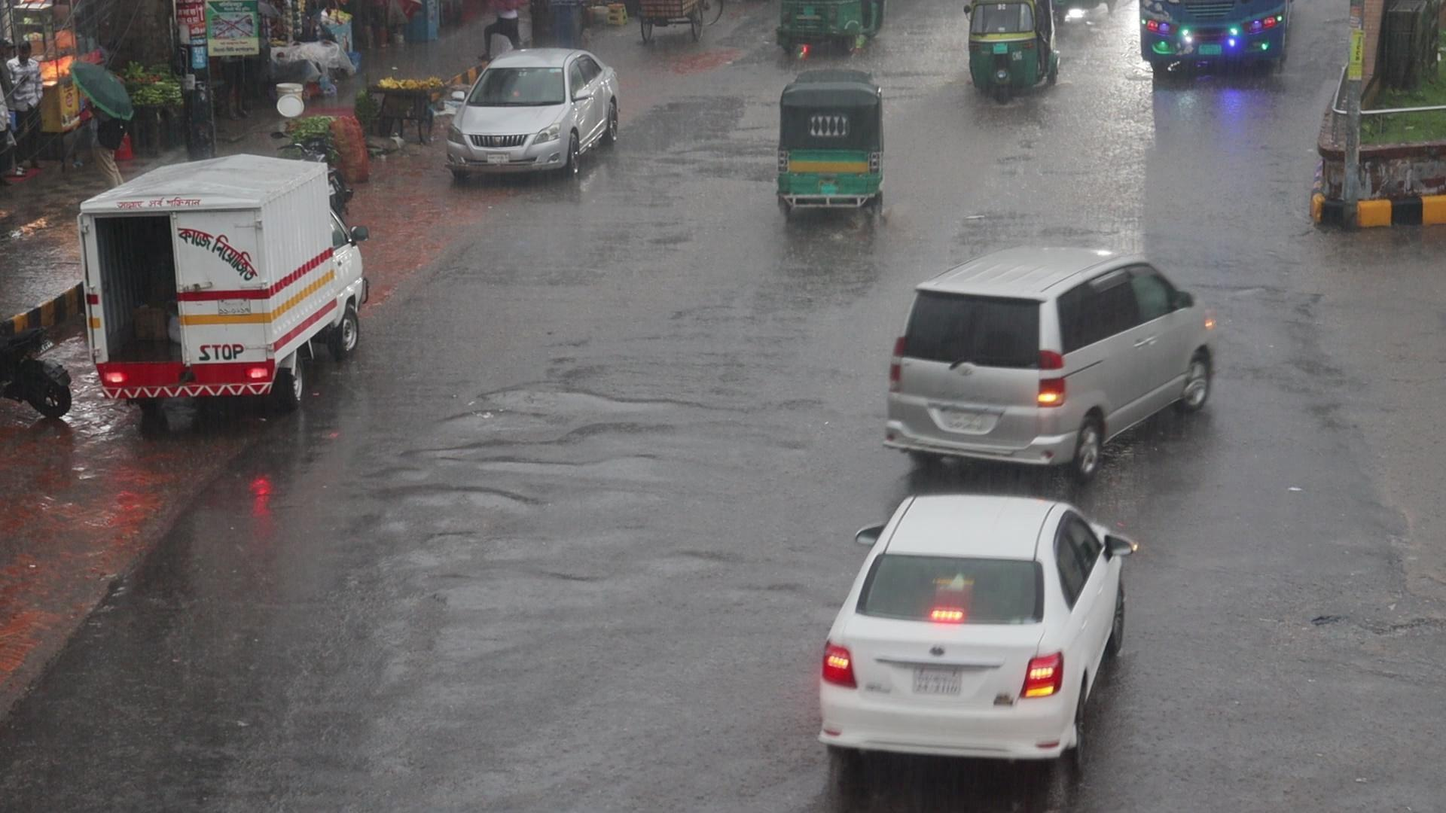Car: (808, 490, 1135, 792), (880, 241, 1220, 481)
